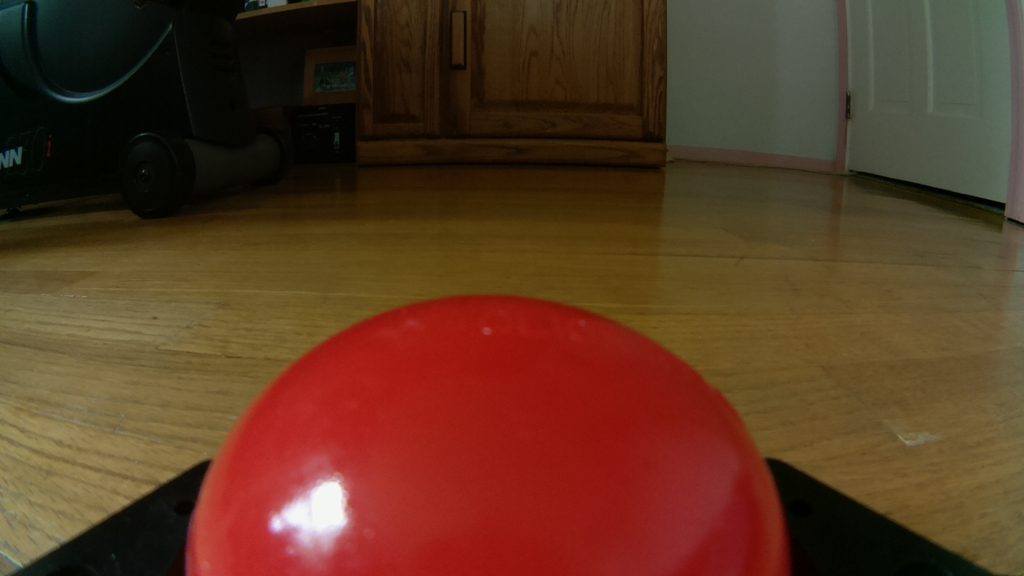ball: (183, 289, 790, 576)
